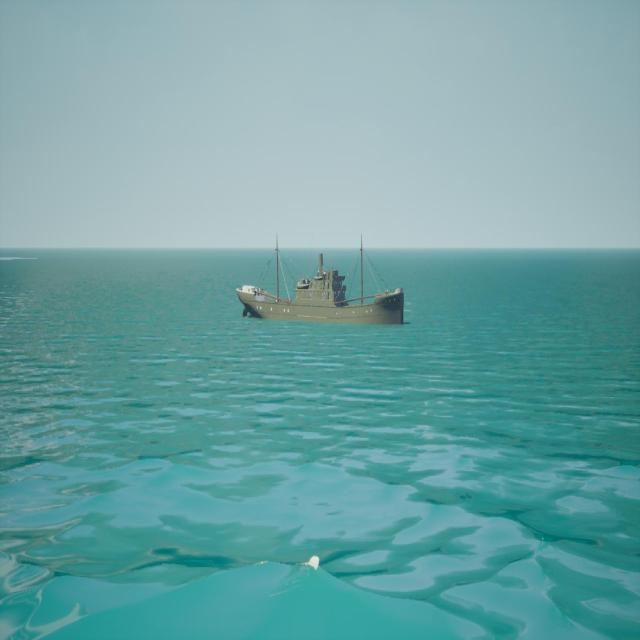fishing ship: (236, 234, 406, 327)
